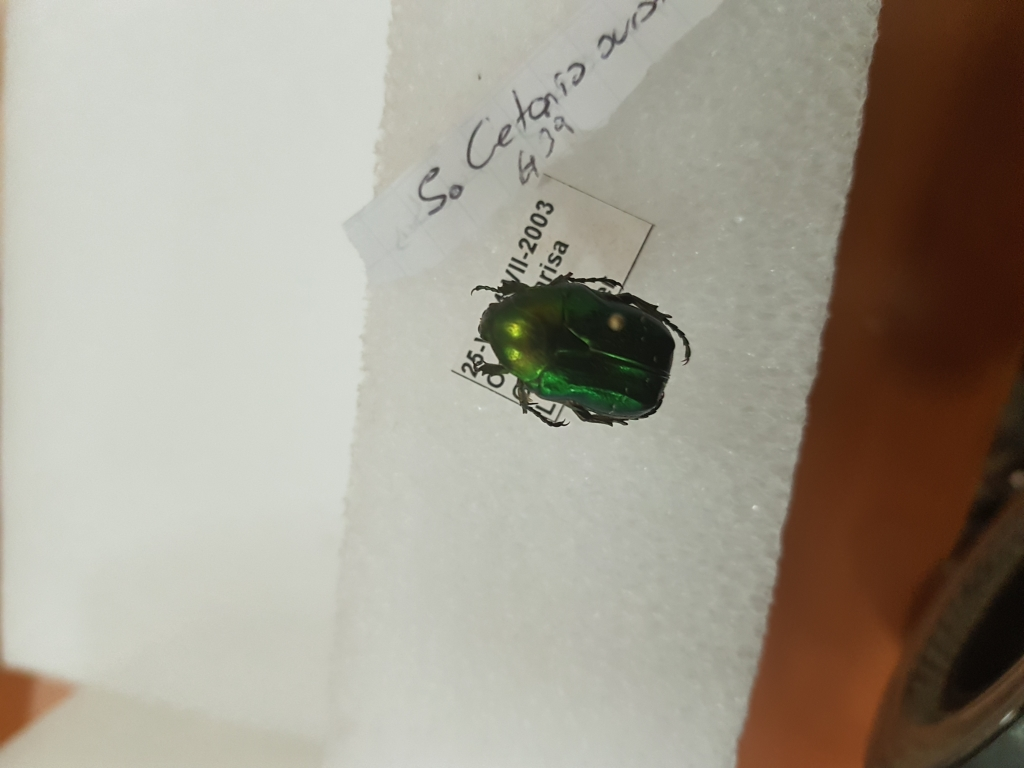Cetonia_aurata: (466, 279, 695, 434)
